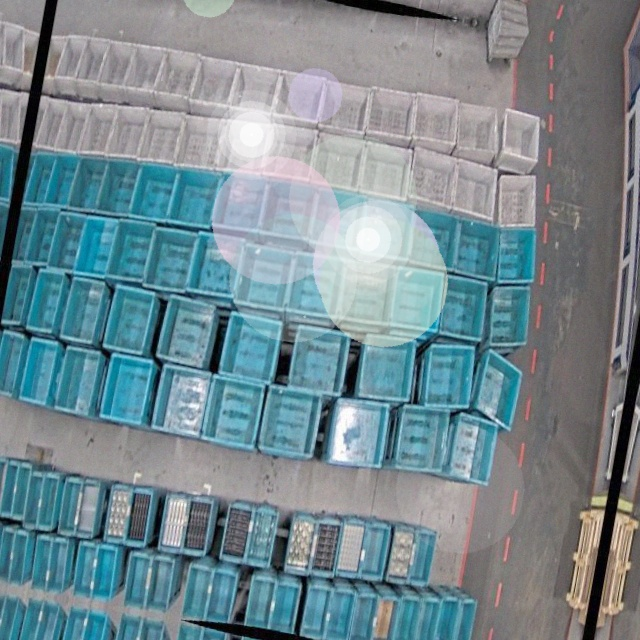Box: (353, 330, 422, 408), (217, 308, 285, 384), (201, 373, 266, 451), (156, 293, 220, 372), (258, 385, 325, 460), (287, 323, 353, 399), (390, 398, 453, 477), (327, 396, 393, 471), (471, 347, 527, 435), (418, 339, 481, 415), (434, 270, 495, 348), (443, 411, 503, 488), (336, 257, 399, 330), (386, 264, 449, 336), (232, 242, 296, 312), (258, 175, 319, 248), (284, 252, 348, 321), (152, 365, 212, 438), (308, 185, 370, 254), (447, 216, 507, 286), (187, 229, 244, 302), (481, 280, 537, 354), (99, 352, 154, 427), (357, 195, 417, 263), (445, 159, 504, 228), (103, 284, 158, 357), (144, 224, 200, 295), (405, 145, 461, 216), (211, 171, 270, 238), (404, 207, 463, 274), (490, 222, 544, 292), (356, 141, 415, 205), (406, 91, 464, 156), (261, 120, 318, 185), (363, 83, 420, 148), (451, 98, 506, 165), (105, 217, 157, 287), (167, 163, 221, 230), (491, 169, 545, 235), (310, 129, 366, 192), (318, 75, 374, 138), (229, 60, 282, 124), (216, 117, 269, 180), (55, 347, 102, 418), (188, 53, 239, 118), (272, 66, 327, 126), (152, 46, 201, 113), (495, 109, 544, 176), (61, 275, 107, 345), (176, 110, 226, 173), (73, 215, 118, 281), (137, 109, 187, 168), (26, 267, 68, 337), (131, 161, 178, 221), (20, 338, 61, 406), (104, 103, 151, 162), (96, 156, 141, 217), (95, 40, 136, 105), (123, 43, 164, 107), (77, 100, 118, 160), (357, 518, 393, 586), (68, 152, 108, 213), (383, 518, 419, 585), (71, 34, 108, 99), (220, 500, 255, 565), (284, 511, 319, 576), (48, 210, 85, 271), (52, 33, 87, 97), (43, 148, 80, 208), (1, 261, 34, 327), (246, 505, 280, 569), (181, 493, 216, 555), (122, 484, 155, 548), (157, 493, 191, 555), (24, 207, 59, 267), (335, 516, 368, 579), (405, 527, 438, 590), (35, 95, 70, 154), (311, 517, 344, 579), (101, 482, 133, 545), (56, 475, 87, 540), (142, 555, 177, 612), (180, 564, 213, 624), (55, 99, 91, 153), (299, 583, 333, 640), (0, 329, 27, 400), (205, 566, 238, 624), (243, 575, 278, 629), (75, 478, 105, 539), (121, 553, 153, 610), (88, 545, 119, 602), (24, 151, 55, 208), (324, 587, 357, 640), (70, 541, 100, 599), (270, 580, 301, 635), (22, 468, 48, 532), (28, 535, 56, 594), (44, 537, 71, 595), (10, 460, 35, 522), (42, 34, 67, 96), (11, 206, 37, 265), (6, 528, 32, 586), (37, 473, 62, 533), (348, 592, 379, 640), (369, 595, 401, 640), (392, 595, 421, 640), (0, 458, 21, 519), (433, 595, 460, 640), (452, 597, 480, 640), (414, 597, 441, 640), (0, 527, 19, 587), (0, 456, 11, 517), (0, 456, 1, 510)
